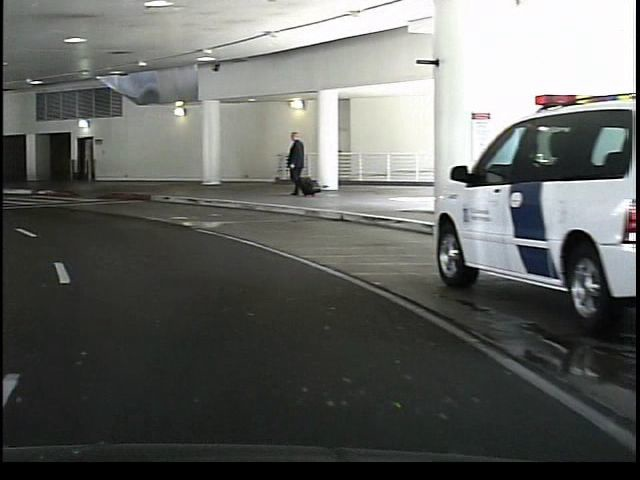person: (282, 127, 315, 203)
